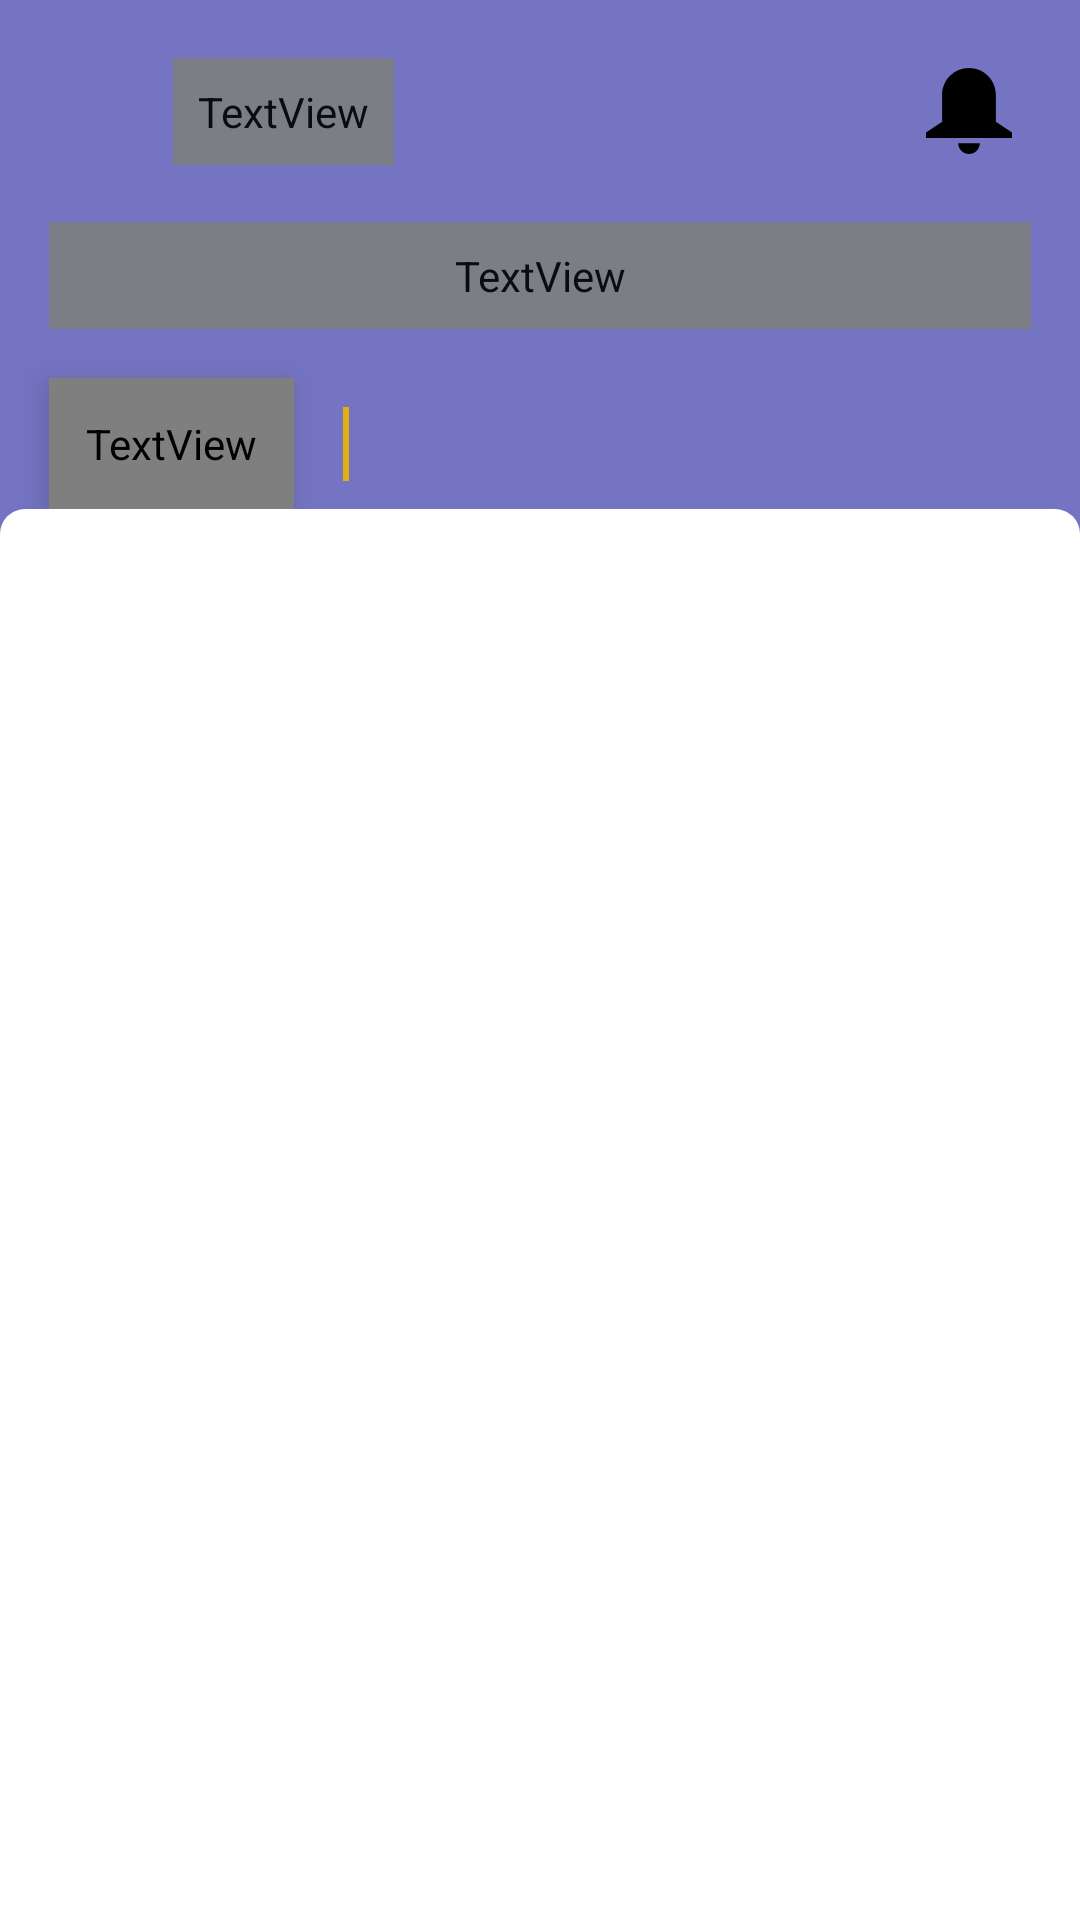

Named icons in this screenshot (1080px×1920px) and their centers, (x,y):
notification: (969,111)
